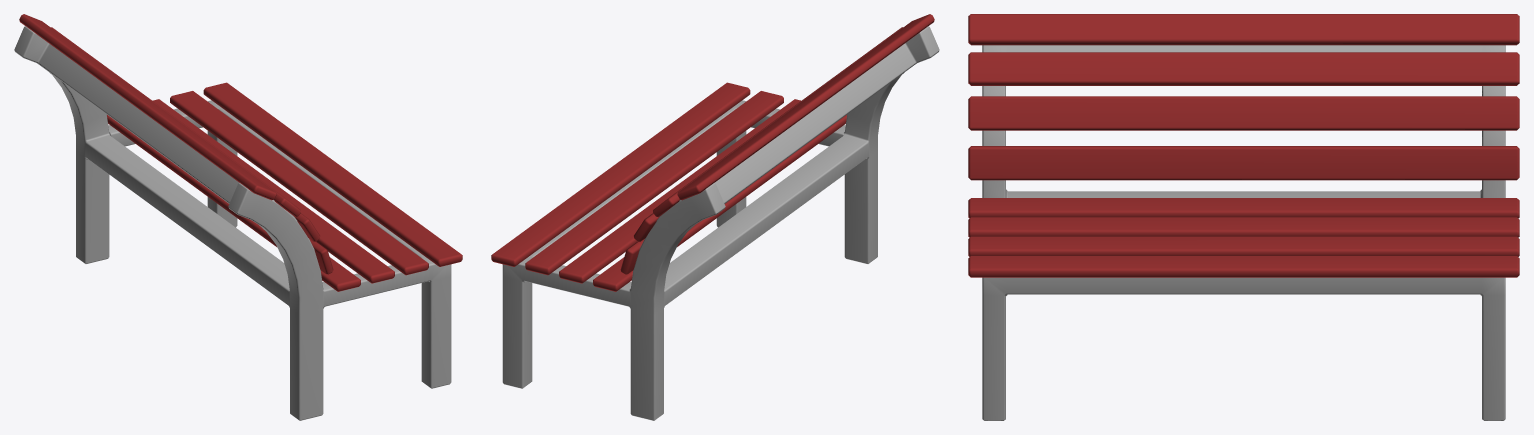
File: sm_banc.fbx
The picture shows the model from 3 angles, left to right: view 1: azimuth 30°, elevation 25°; view 2: azimuth 150°, elevation 25°; view 3: azimuth 270°, elevation 25°; orthographic projection. The views are drawn at different scales.
Visible parts, largest first — view 1: banc; view 2: banc; view 3: banc.
Part boxes in pixels (x1,y1,x2,y2): banc: [14, 14, 462, 420]; banc: [491, 14, 939, 420]; banc: [968, 14, 1519, 420].
Bounding box in the file's own units: 8.77 × 9.58 × 16.3.
